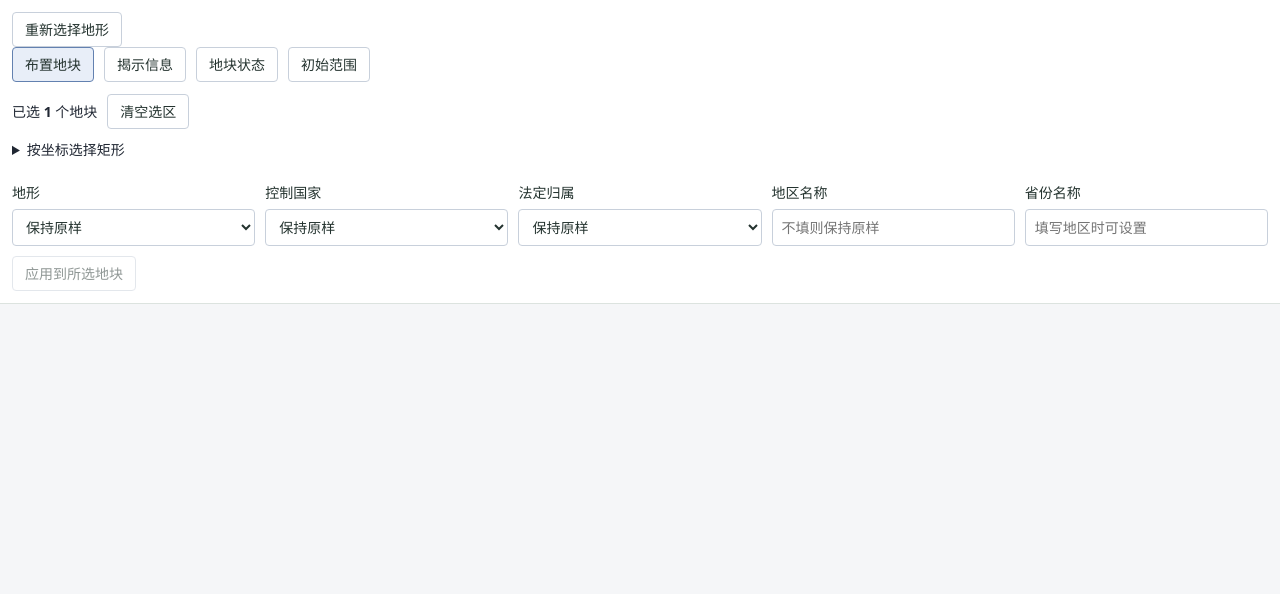
map editing and reveal workflow › checks the receiving country before an immediate reveal and resets confirmation when it changes
The width and height of the screenshot is (1280, 594).
Click the button "揭示信息" at (145, 64), box [104,47,186,82]
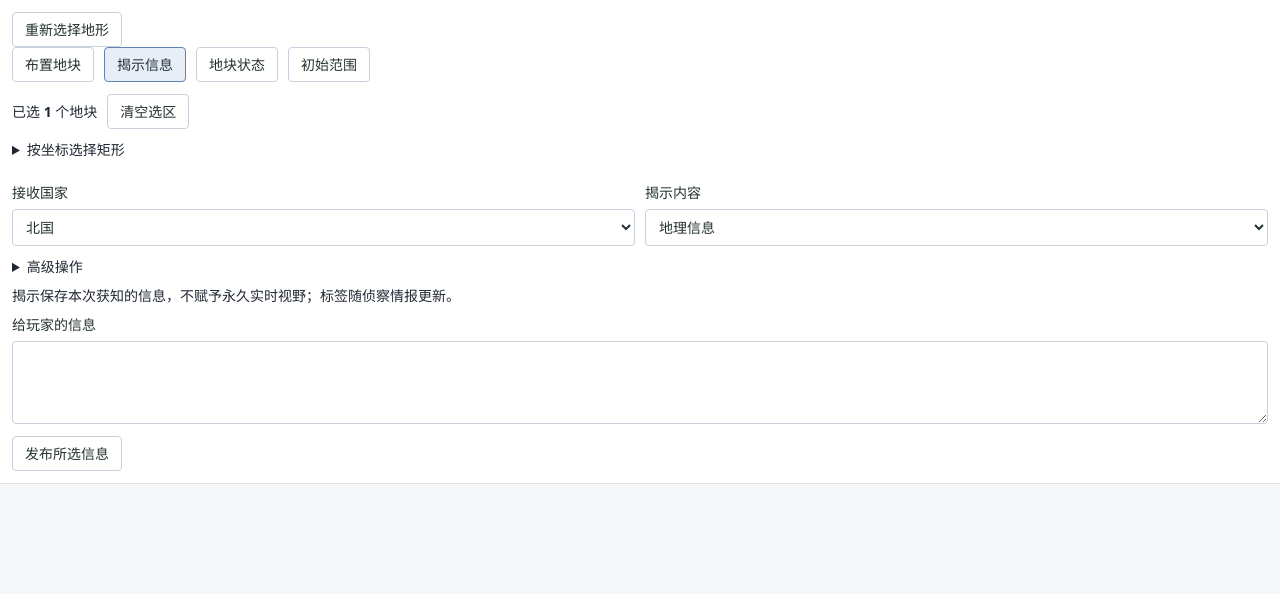
Type "发现矿脉" into the text box labelled "给玩家的信息" at (640, 383), box [12,341,1268,424]
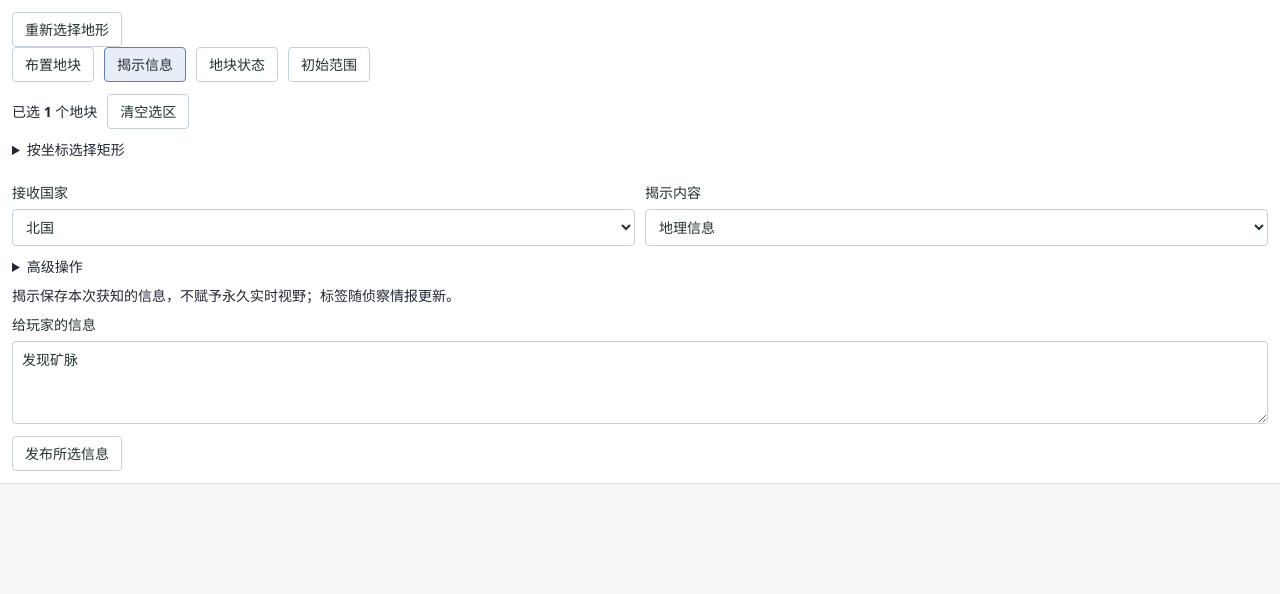
Click the button "发布所选信息" at (67, 454), box [12,436,122,471]
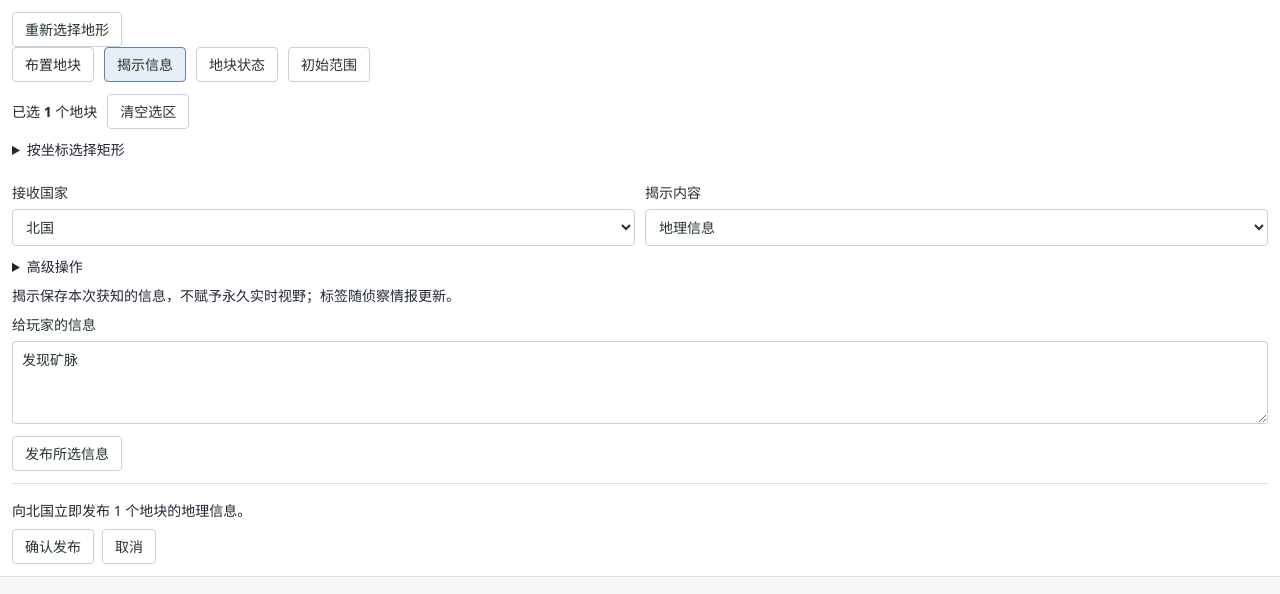
Check: the text "向北国立即发布 1 个地块的地理信息。" is shown, box [12,501,251,520]
Select "南国" in the dropdown labelled "接收国家" at (324, 228), box [12,209,635,246]
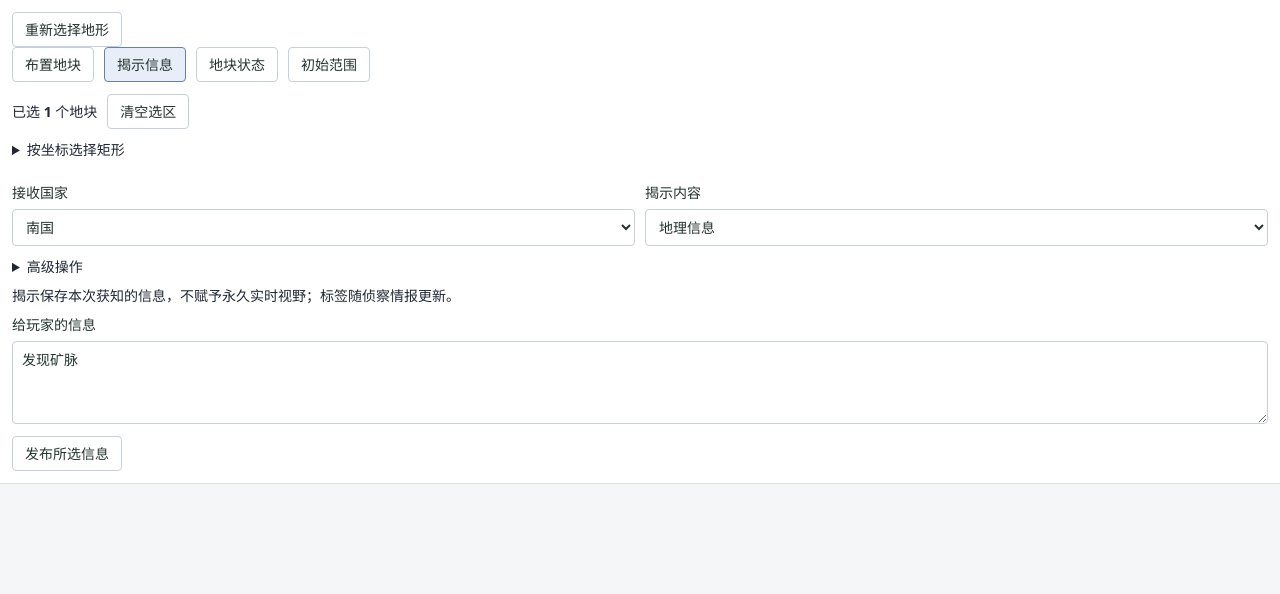
Check: the button "确认发布" is gone
Click the button "发布所选信息" at (67, 454), box [12,436,122,471]
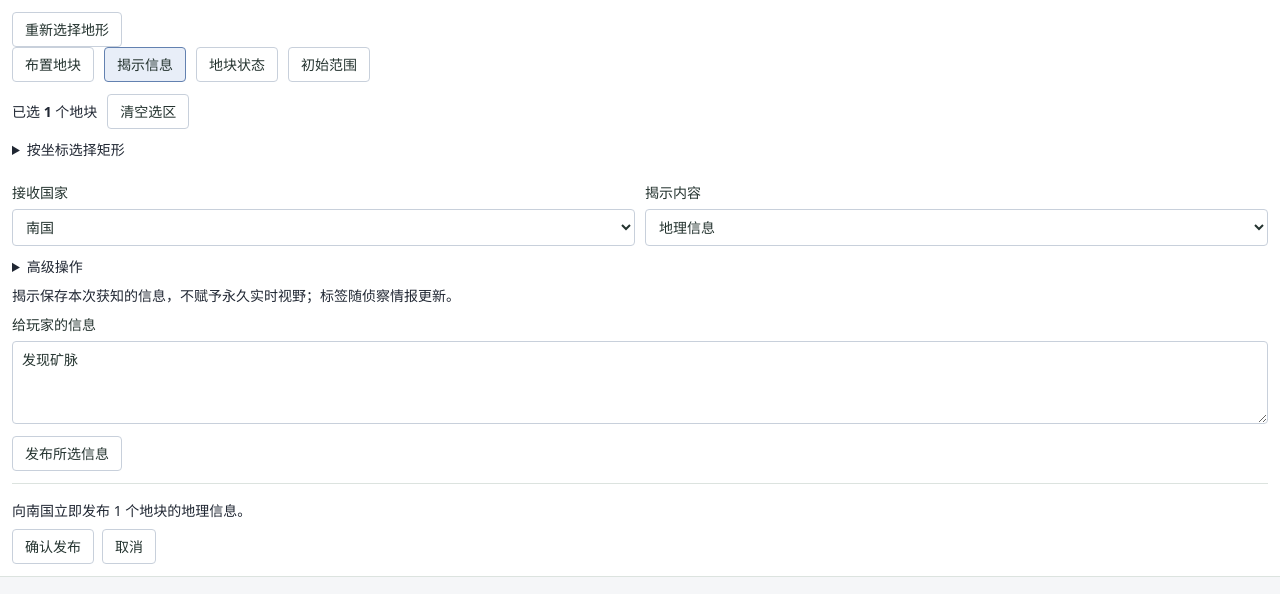
Click the button "确认发布" at (53, 547), box [12,529,94,564]
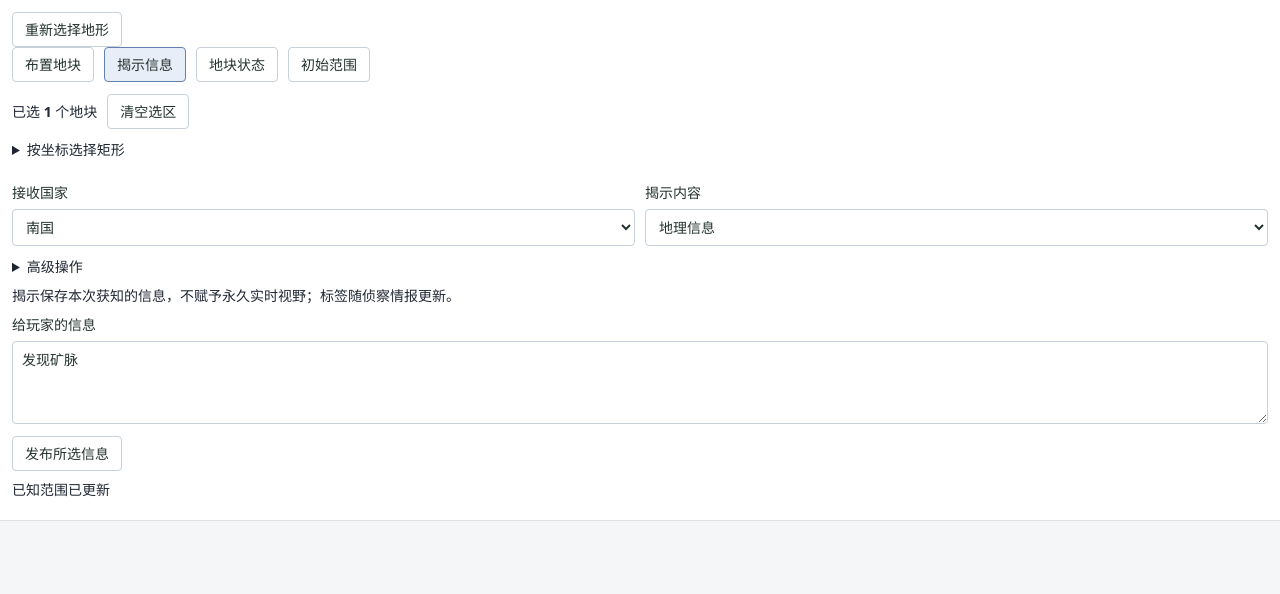
Check: the text "已知范围已更新" is shown, box [12,480,110,499]
